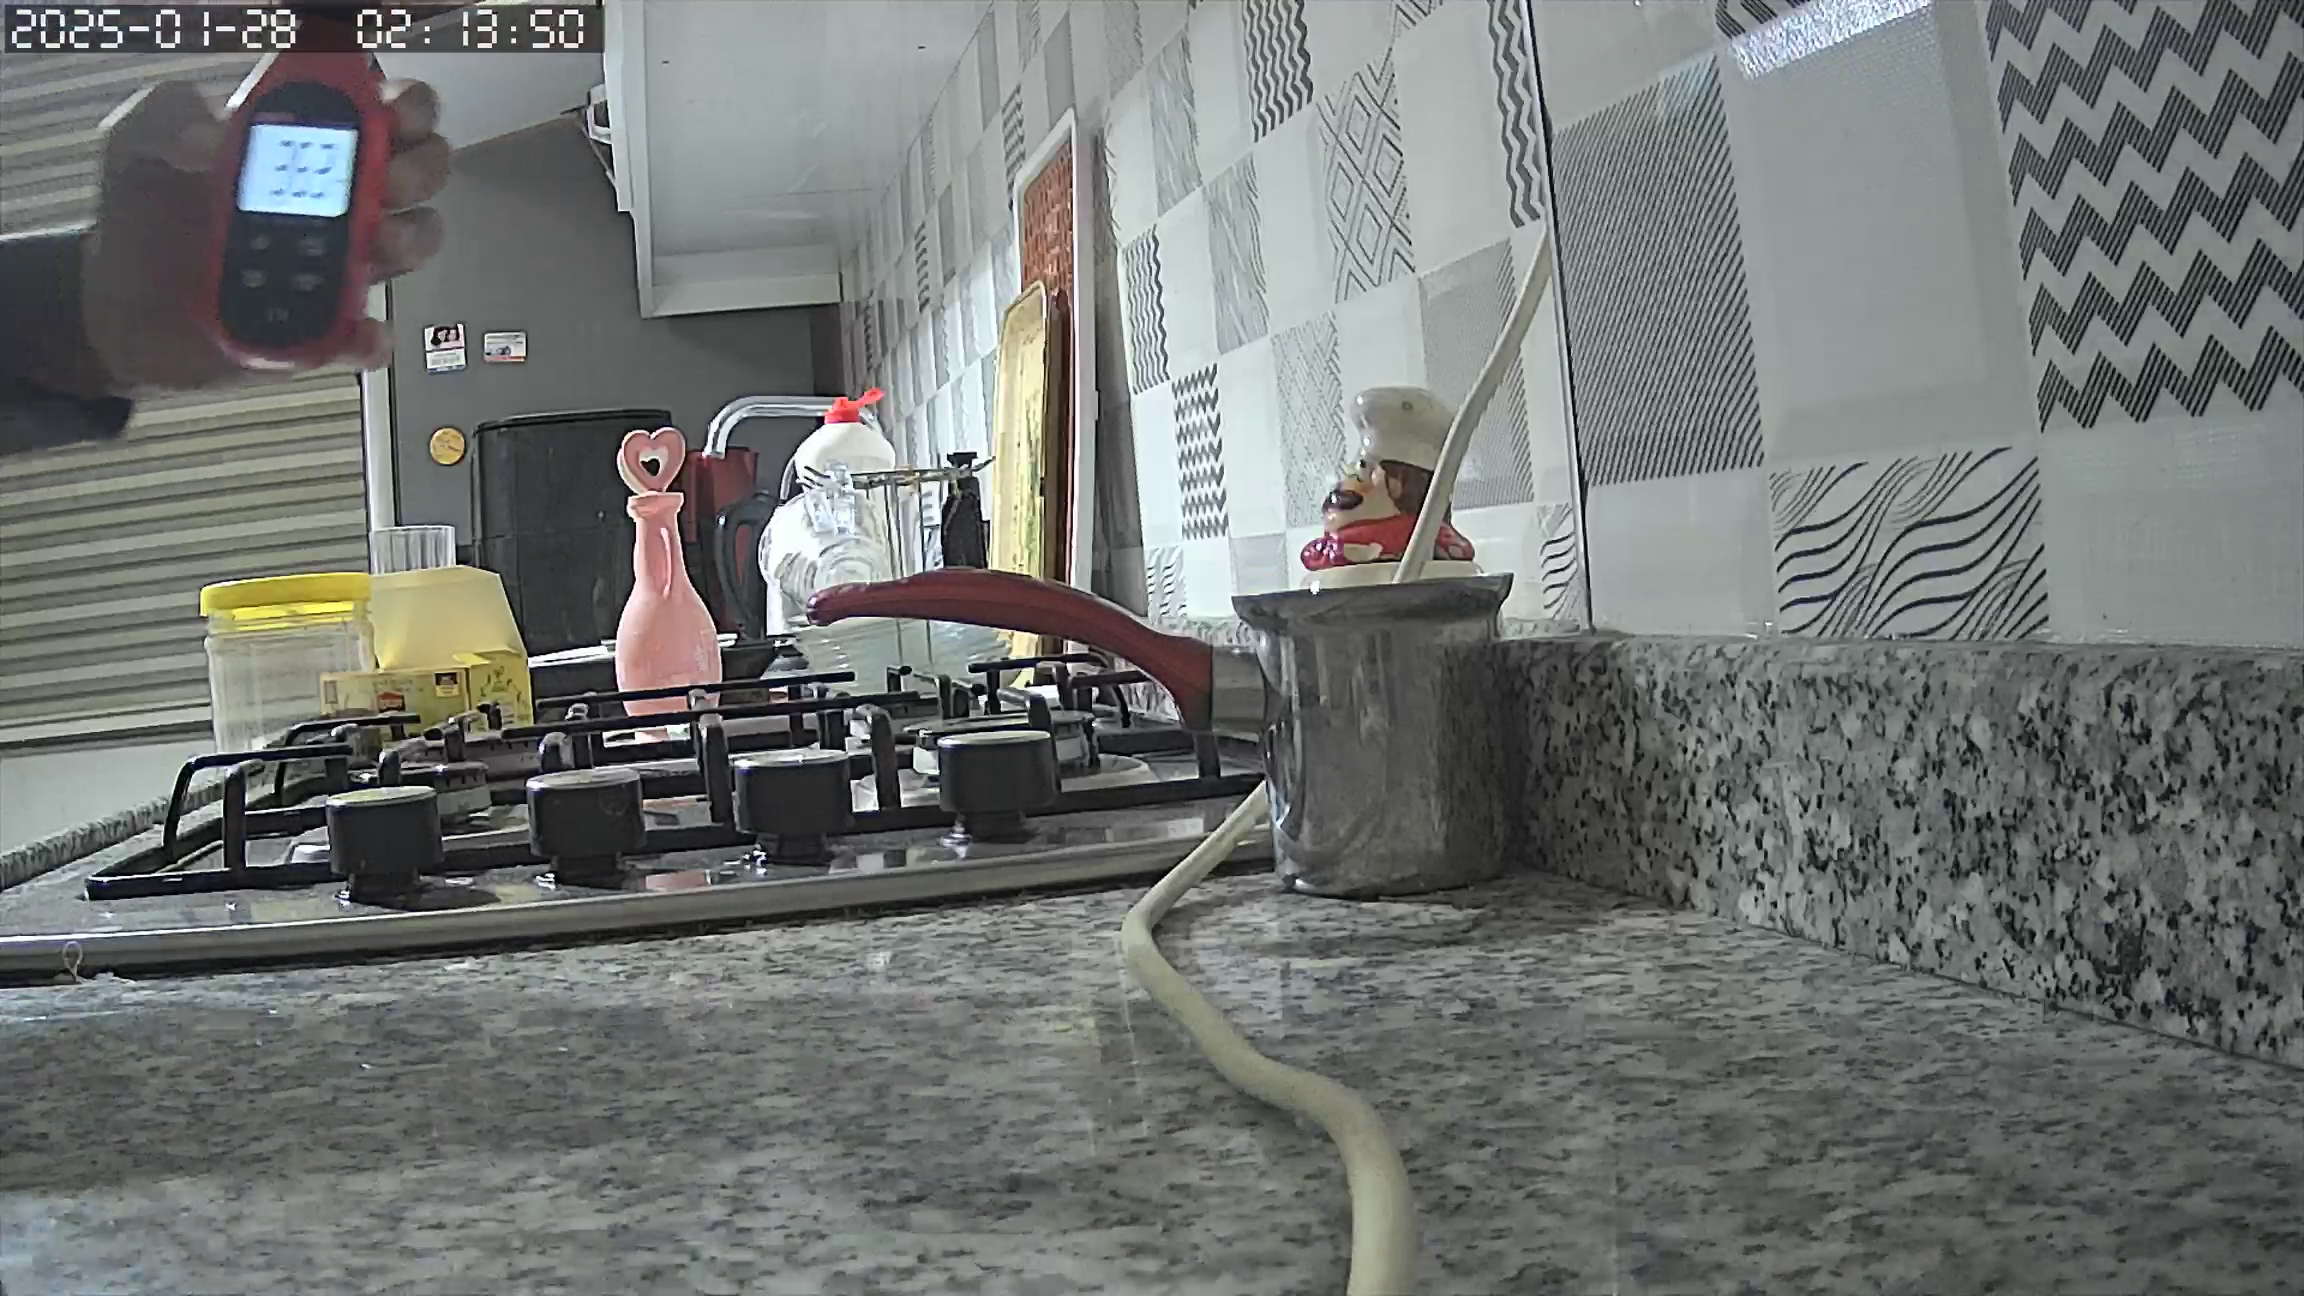screen: (237, 123, 358, 215)
